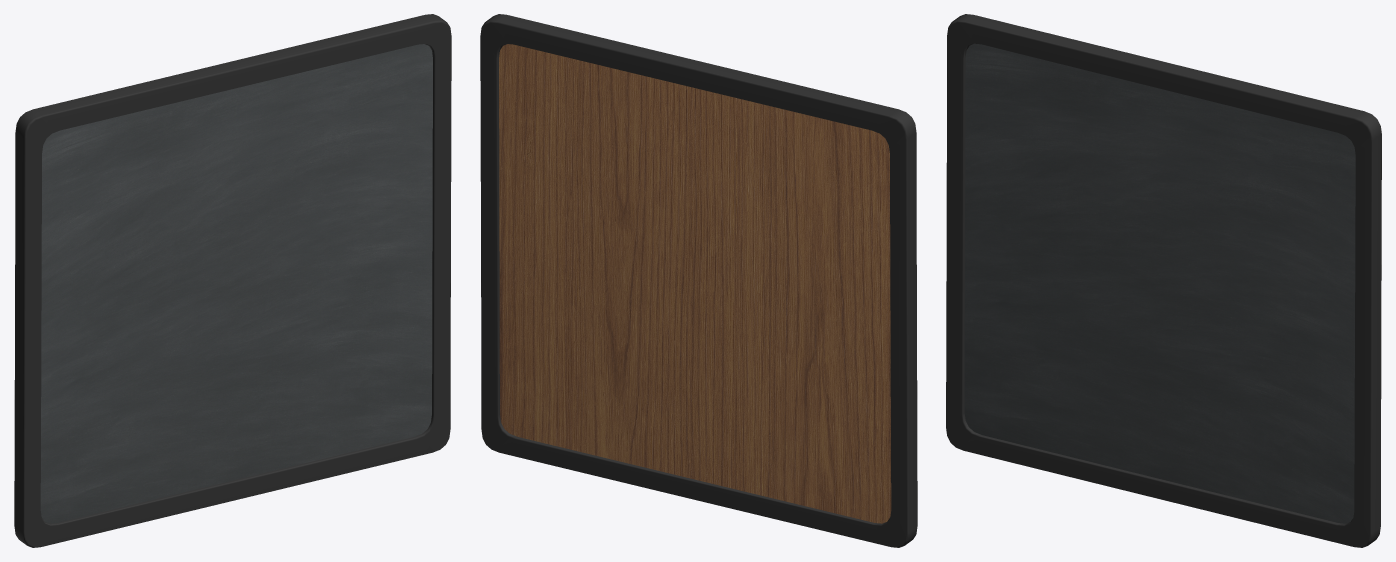
Rendered from SM_pinboard_01.fbx.
3 renders of one model, left to right at view 1: azimuth 30°, elevation 25°; view 2: azimuth 150°, elevation 25°; view 3: azimuth 330°, elevation 25°, orthographic.
Visible parts, largest first — view 1: pinboard01; view 2: pinboard01; view 3: pinboard01.
Boxes of the visible parts, left/top/right/bottom form: pinboard01: left=14, top=14, right=451, bottom=547; pinboard01: left=480, top=14, right=917, bottom=547; pinboard01: left=946, top=14, right=1381, bottom=547.
Bounding box in the file's own units: 58.05 × 55.99 × 2.54.
3 materials, 2 textured.
